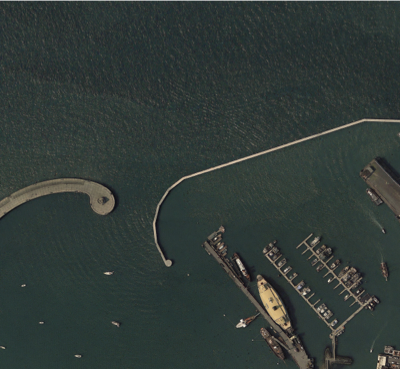boat: (256, 273, 295, 340), (260, 328, 289, 367), (233, 252, 251, 282), (366, 188, 383, 206), (236, 315, 257, 328), (345, 273, 361, 287), (343, 268, 357, 281), (319, 248, 333, 260), (263, 242, 274, 254), (380, 261, 388, 277), (338, 266, 349, 277), (316, 244, 327, 254), (310, 236, 321, 246), (330, 259, 340, 269), (269, 247, 279, 256), (371, 294, 380, 303), (352, 281, 362, 289), (278, 258, 287, 266), (272, 252, 281, 260), (213, 234, 222, 241), (367, 304, 375, 311), (316, 263, 323, 271), (317, 303, 325, 310), (303, 288, 311, 295), (297, 282, 305, 289), (289, 272, 297, 279), (321, 306, 328, 313), (324, 309, 331, 316), (331, 319, 338, 326), (284, 266, 291, 273), (326, 313, 334, 319), (311, 258, 318, 264), (111, 321, 120, 325), (103, 271, 113, 274), (381, 228, 386, 234), (370, 301, 375, 307), (328, 277, 333, 282), (344, 294, 349, 299), (219, 245, 225, 249), (221, 249, 227, 253), (74, 354, 82, 357), (340, 330, 344, 334), (317, 315, 321, 319), (273, 240, 277, 244), (219, 225, 223, 229), (217, 242, 221, 246), (226, 258, 230, 262), (229, 262, 233, 266), (273, 329, 277, 333), (1, 345, 6, 348), (336, 333, 340, 336), (303, 287, 306, 291), (221, 229, 225, 232), (260, 327, 264, 330), (21, 284, 26, 286), (39, 321, 44, 323), (222, 230, 225, 233), (270, 326, 273, 328), (117, 325, 120, 327), (112, 271, 114, 272)
